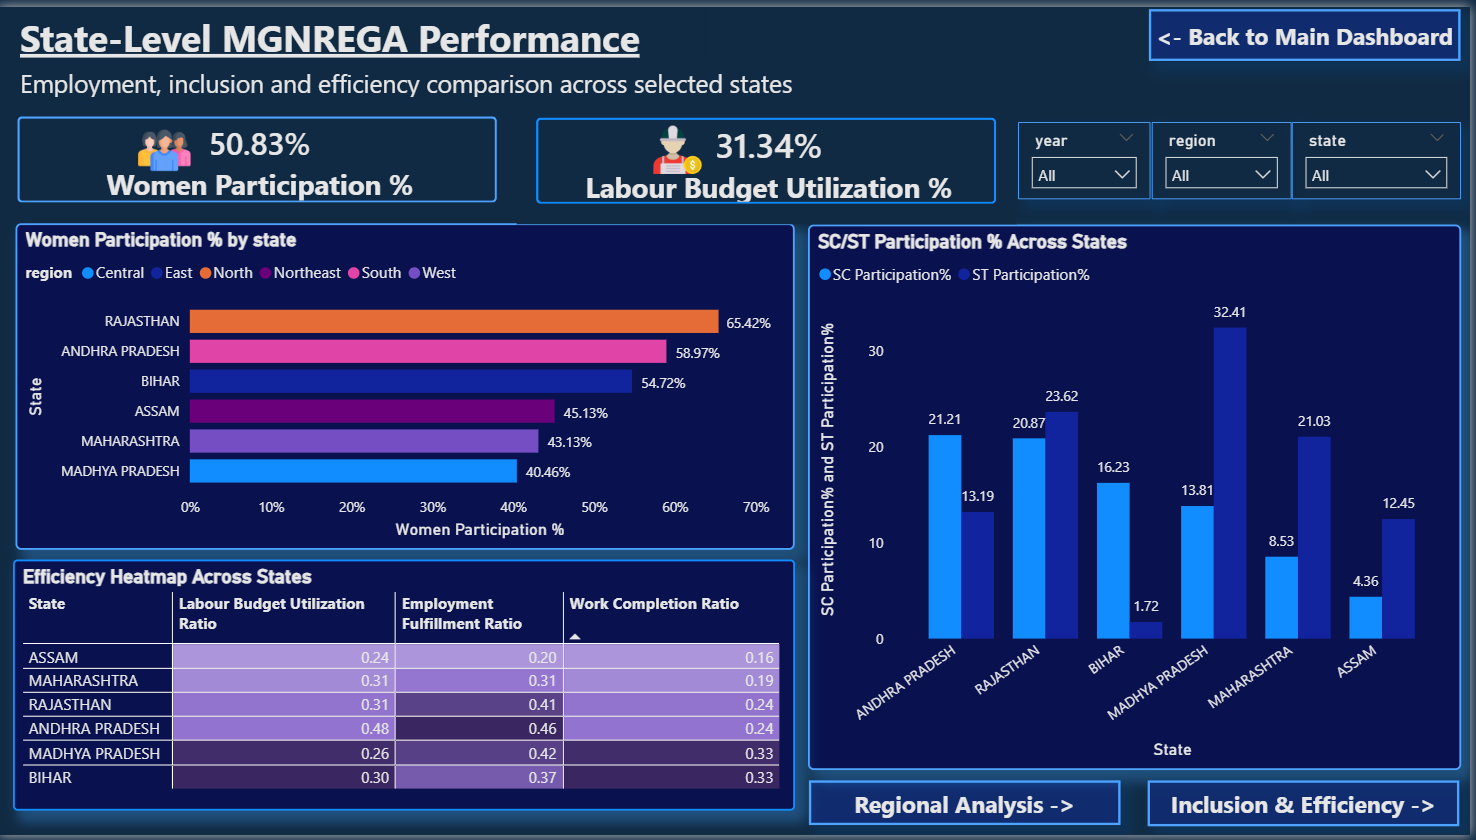

The dashboard page shown, as its layout file describes it:
{"tool":"powerbi","page":{"name":"State Analysis","canvas":[1280,720],"ordinal":1},"visuals":[{"type":"slicer","fields":{"Values":["mgnrega_state_year_dataset.year"]},"box":[887.1,99.5,115,67.4],"z":0},{"type":"slicer","fields":{"Values":["mgnrega_state_year_dataset.region"]},"box":[1003.1,99.5,121.2,67.4],"z":1000},{"type":"slicer","fields":{"Values":["mgnrega_state_year_dataset.state_name"]},"box":[1125.4,99.5,147.2,67.4],"z":2000},{"type":"actionButton","box":[704.7,671.5,272.5,40.4],"z":3000},{"type":"actionButton","box":[1000,1,272.5,46.6],"z":4000},{"type":"textbox","box":[13.9,0,600,68.1],"z":5000},{"type":"textbox","box":[13.9,47.2,743.1,54.2],"z":6000},{"type":"barChart","title":"Women Participation % by state","fields":{"Category":["mgnrega_state_year_dataset.state_name"],"Y":["mgnrega_state_year_dataset.Women Participation %"],"Series":["mgnrega_state_year_dataset.region"]},"box":[14.9,188.3,677.7,284],"z":7000},{"type":"clusteredColumnChart","title":"SC/ST Participation % Across States","fields":{"Category":["mgnrega_state_year_dataset.state_name"],"Y":["Avg(mgnrega_state_year_dataset.sc_participation_percent)","Avg(mgnrega_state_year_dataset.st_participation_percent)"]},"box":[704.7,188.6,567.9,474.6],"z":8000},{"type":"pivotTable","title":"Efficiency Heatmap Across States","fields":{"Rows":["mgnrega_state_year_dataset.state_name"],"Values":["mgnrega_state_year_dataset.Labour Budget Utilization","Avg(mgnrega_state_year_dataset.employment_fulfillment_ratio)","Avg(mgnrega_state_year_dataset.work_completion_ratio)"]},"box":[13.5,480.8,679.8,218.7],"z":9000},{"type":"cardVisual","fields":{"Data":["mgnrega_state_year_dataset.Women Participation %"]},"box":[0,78.8,451.8,109.8],"z":10000},{"type":"cardVisual","fields":{"Data":["mgnrega_state_year_dataset.Labour Budget Utilization %"]},"box":[451.4,79.2,434.7,109.7],"z":11000},{"type":"image","box":[113.3,101.7,63.3,45],"z":12000},{"type":"image","box":[568.3,91.7,45,65],"z":13000},{"type":"actionButton","box":[999,671.5,272.5,41.5],"z":14000}]}

Visuals, with their boxes in screenshot pixels (x1, y1, x2, y2), scaled from the page's 1280x720 canvas onto the 1476x840 screenshot:
slicer - mgnrega_state_year_dataset.year: box(1023, 116, 1156, 195)
slicer - mgnrega_state_year_dataset.region: box(1157, 116, 1296, 195)
slicer - mgnrega_state_year_dataset.state_name: box(1298, 116, 1467, 195)
actionButton: box(813, 783, 1127, 831)
actionButton: box(1153, 1, 1467, 56)
textbox: box(16, 0, 708, 79)
textbox: box(16, 55, 873, 118)
"Women Participation % by state" barChart: box(17, 220, 799, 551)
"SC/ST Participation % Across States" clusteredColumnChart: box(813, 220, 1467, 774)
"Efficiency Heatmap Across States" pivotTable: box(16, 561, 799, 816)
cardVisual - mgnrega_state_year_dataset.Women Participation %: box(0, 92, 521, 220)
cardVisual - mgnrega_state_year_dataset.Labour Budget Utilization %: box(521, 92, 1022, 220)
image: box(131, 119, 204, 171)
image: box(655, 107, 707, 183)
actionButton: box(1152, 783, 1466, 832)
